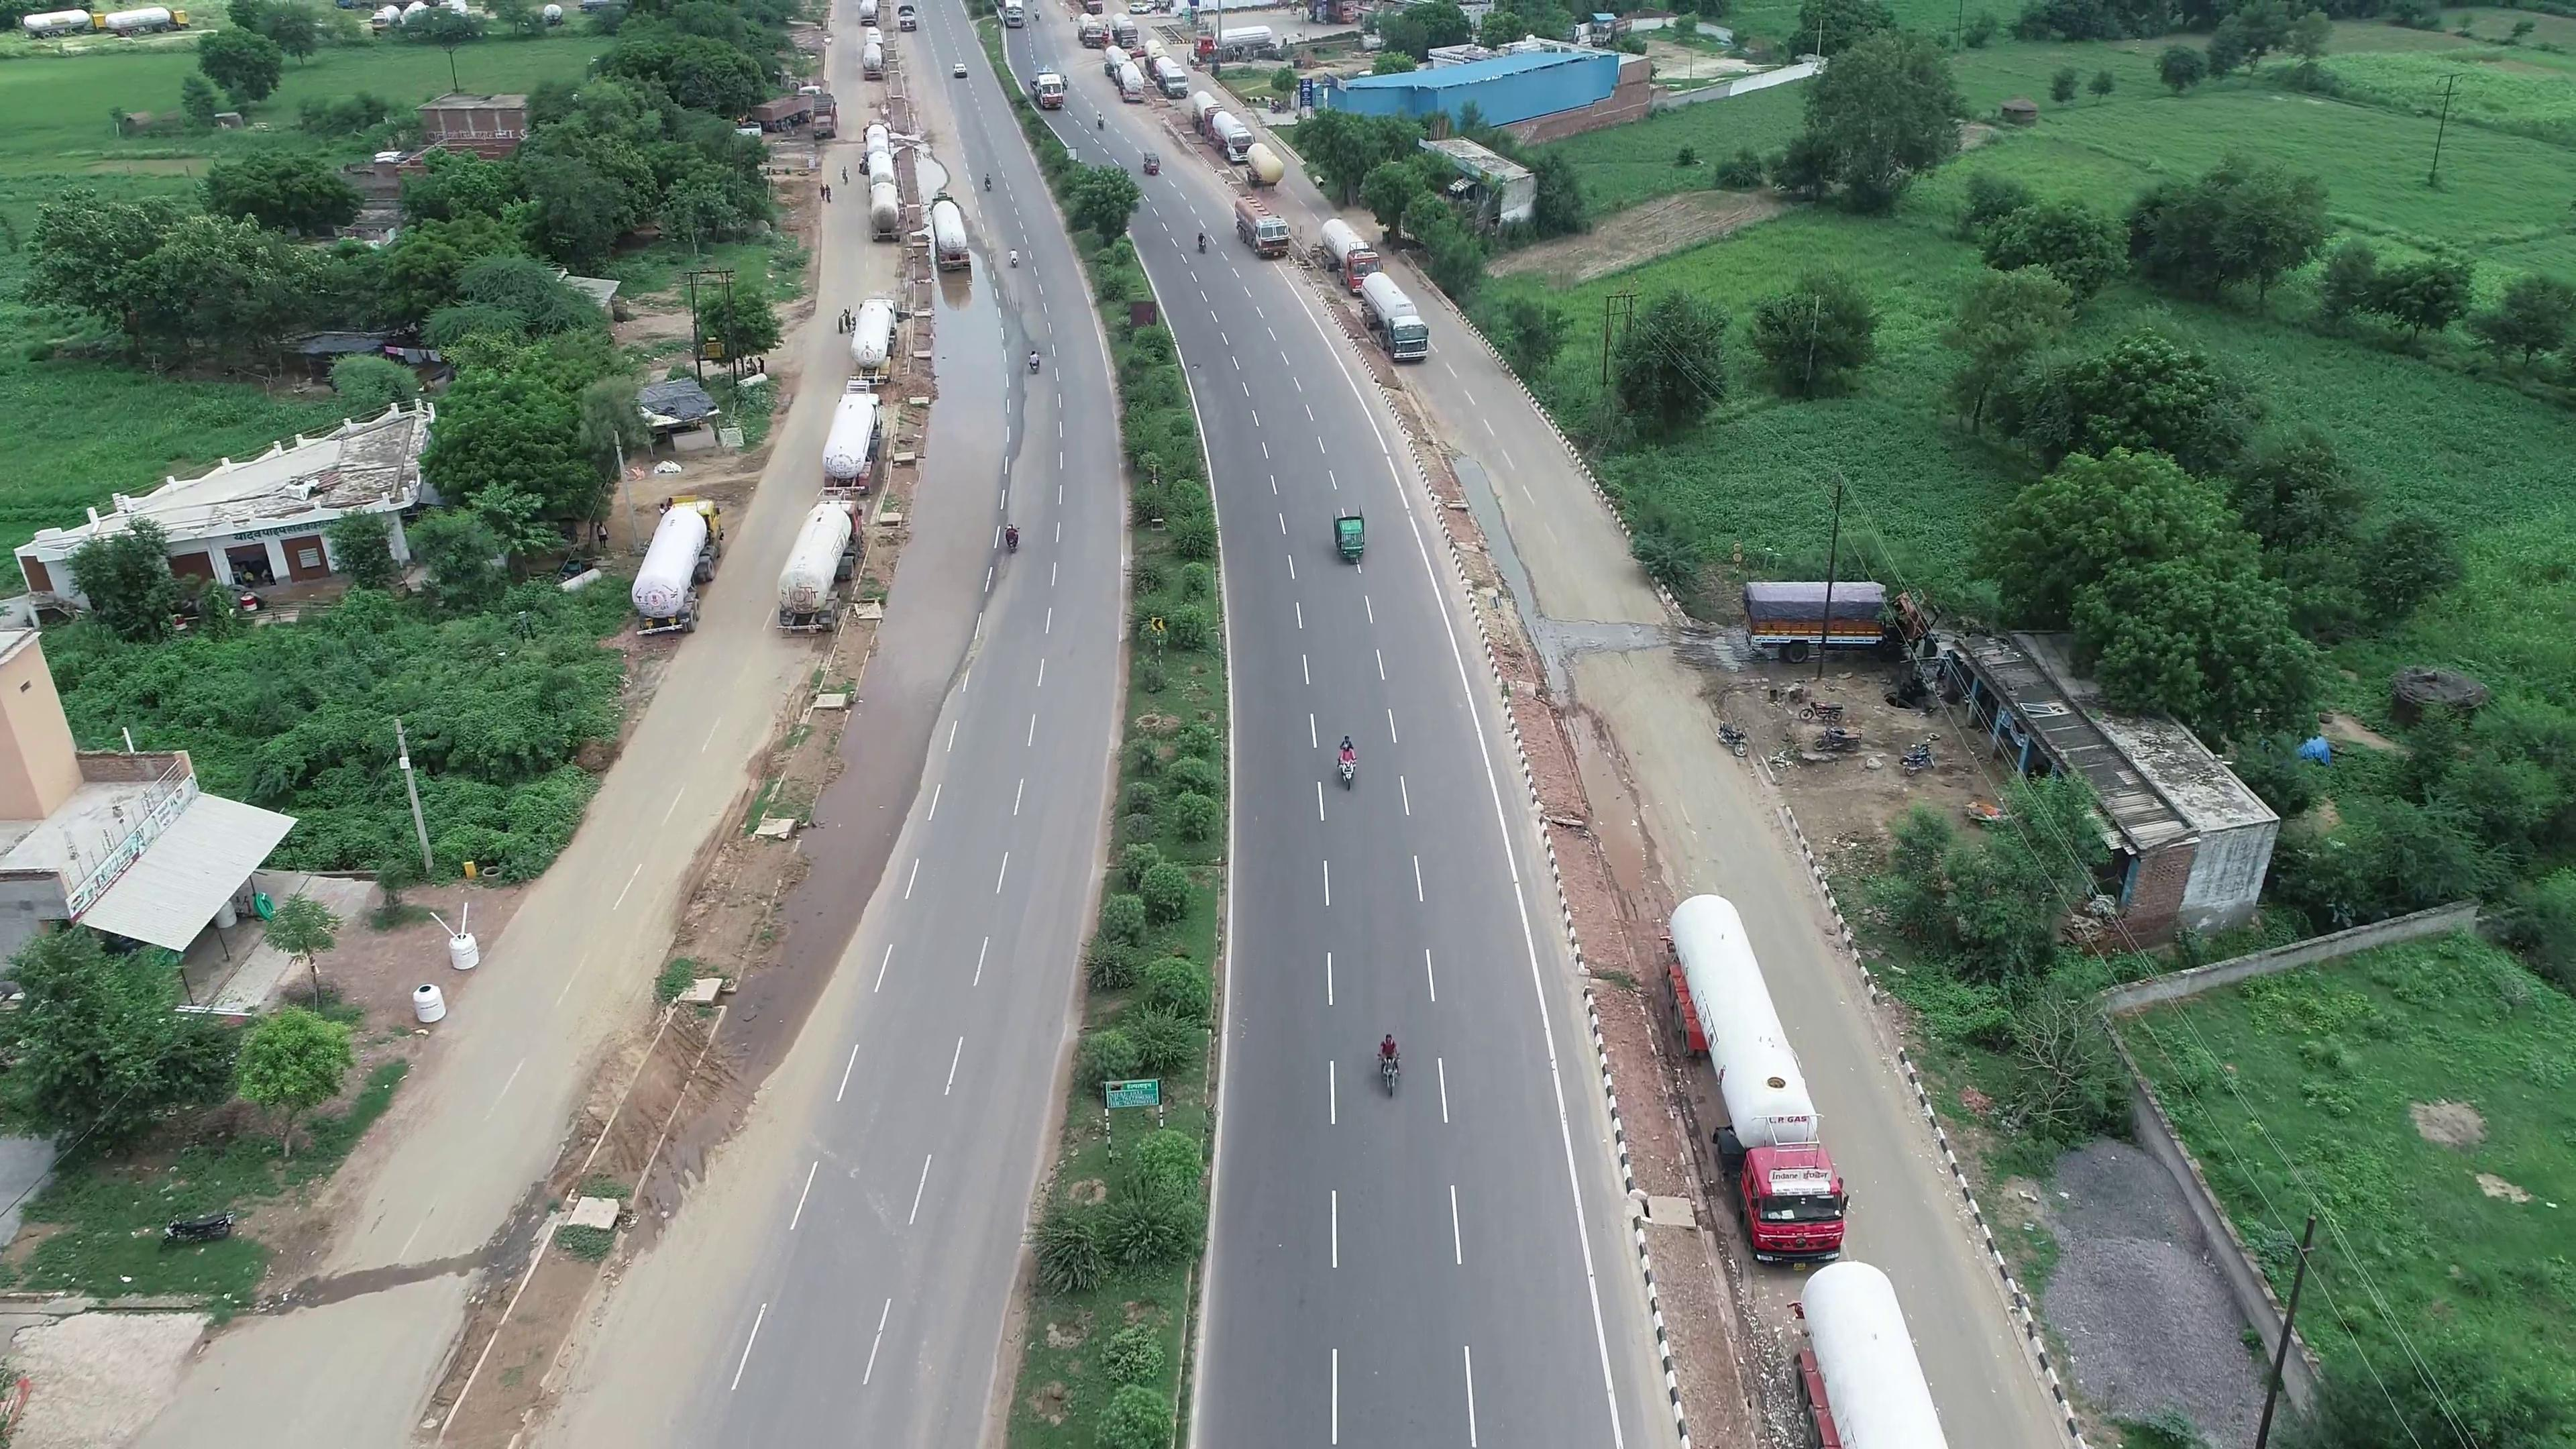Waterlogging: (867, 386, 1010, 754), (1460, 460, 1536, 570), (939, 283, 1005, 403)
